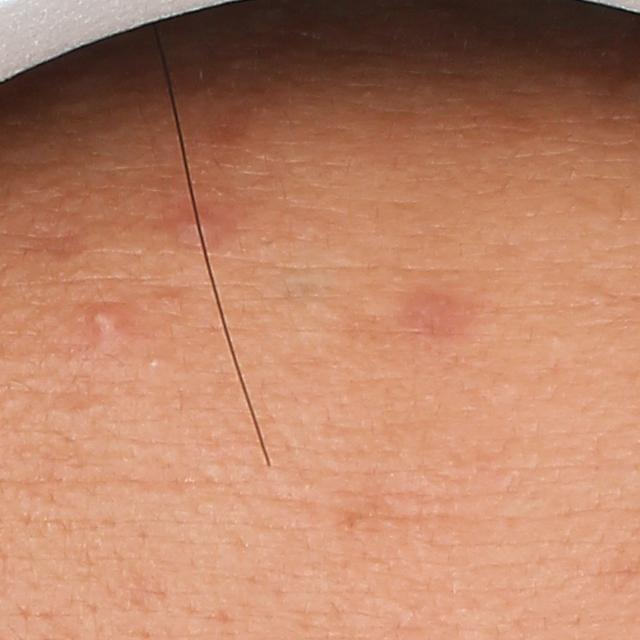papule: (171, 205, 224, 244)
